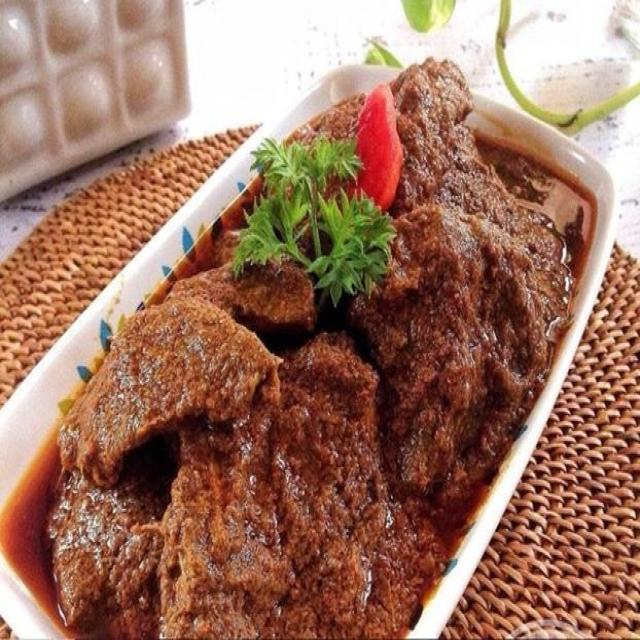Rendang: (0, 55, 590, 640)
